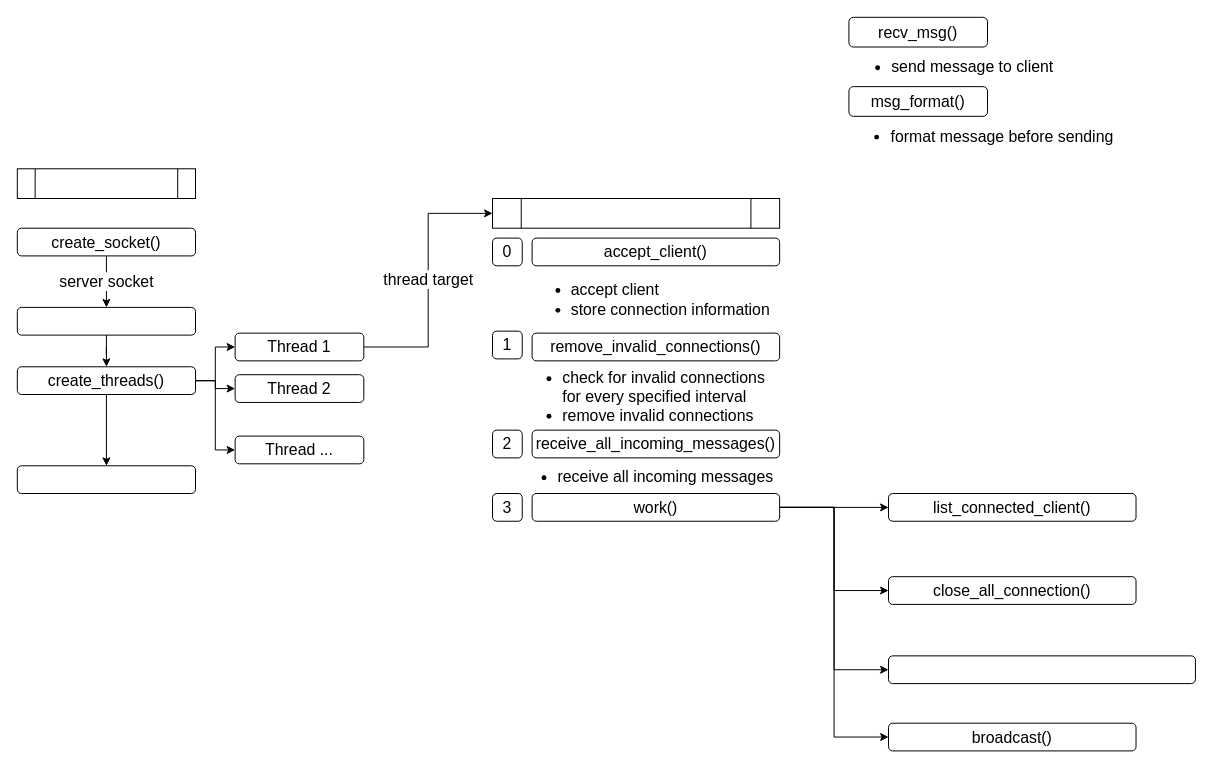
Image size: 1213x768. Some labels were removed from this diagram. Each missing label, with the centre of its shape:
bind_listen_socket(): (106,320)
create_tasks(): (106,479)
main(): (106,183)
scheduler(): (636,213)
select_connection_and_send_message: (1041,669)
